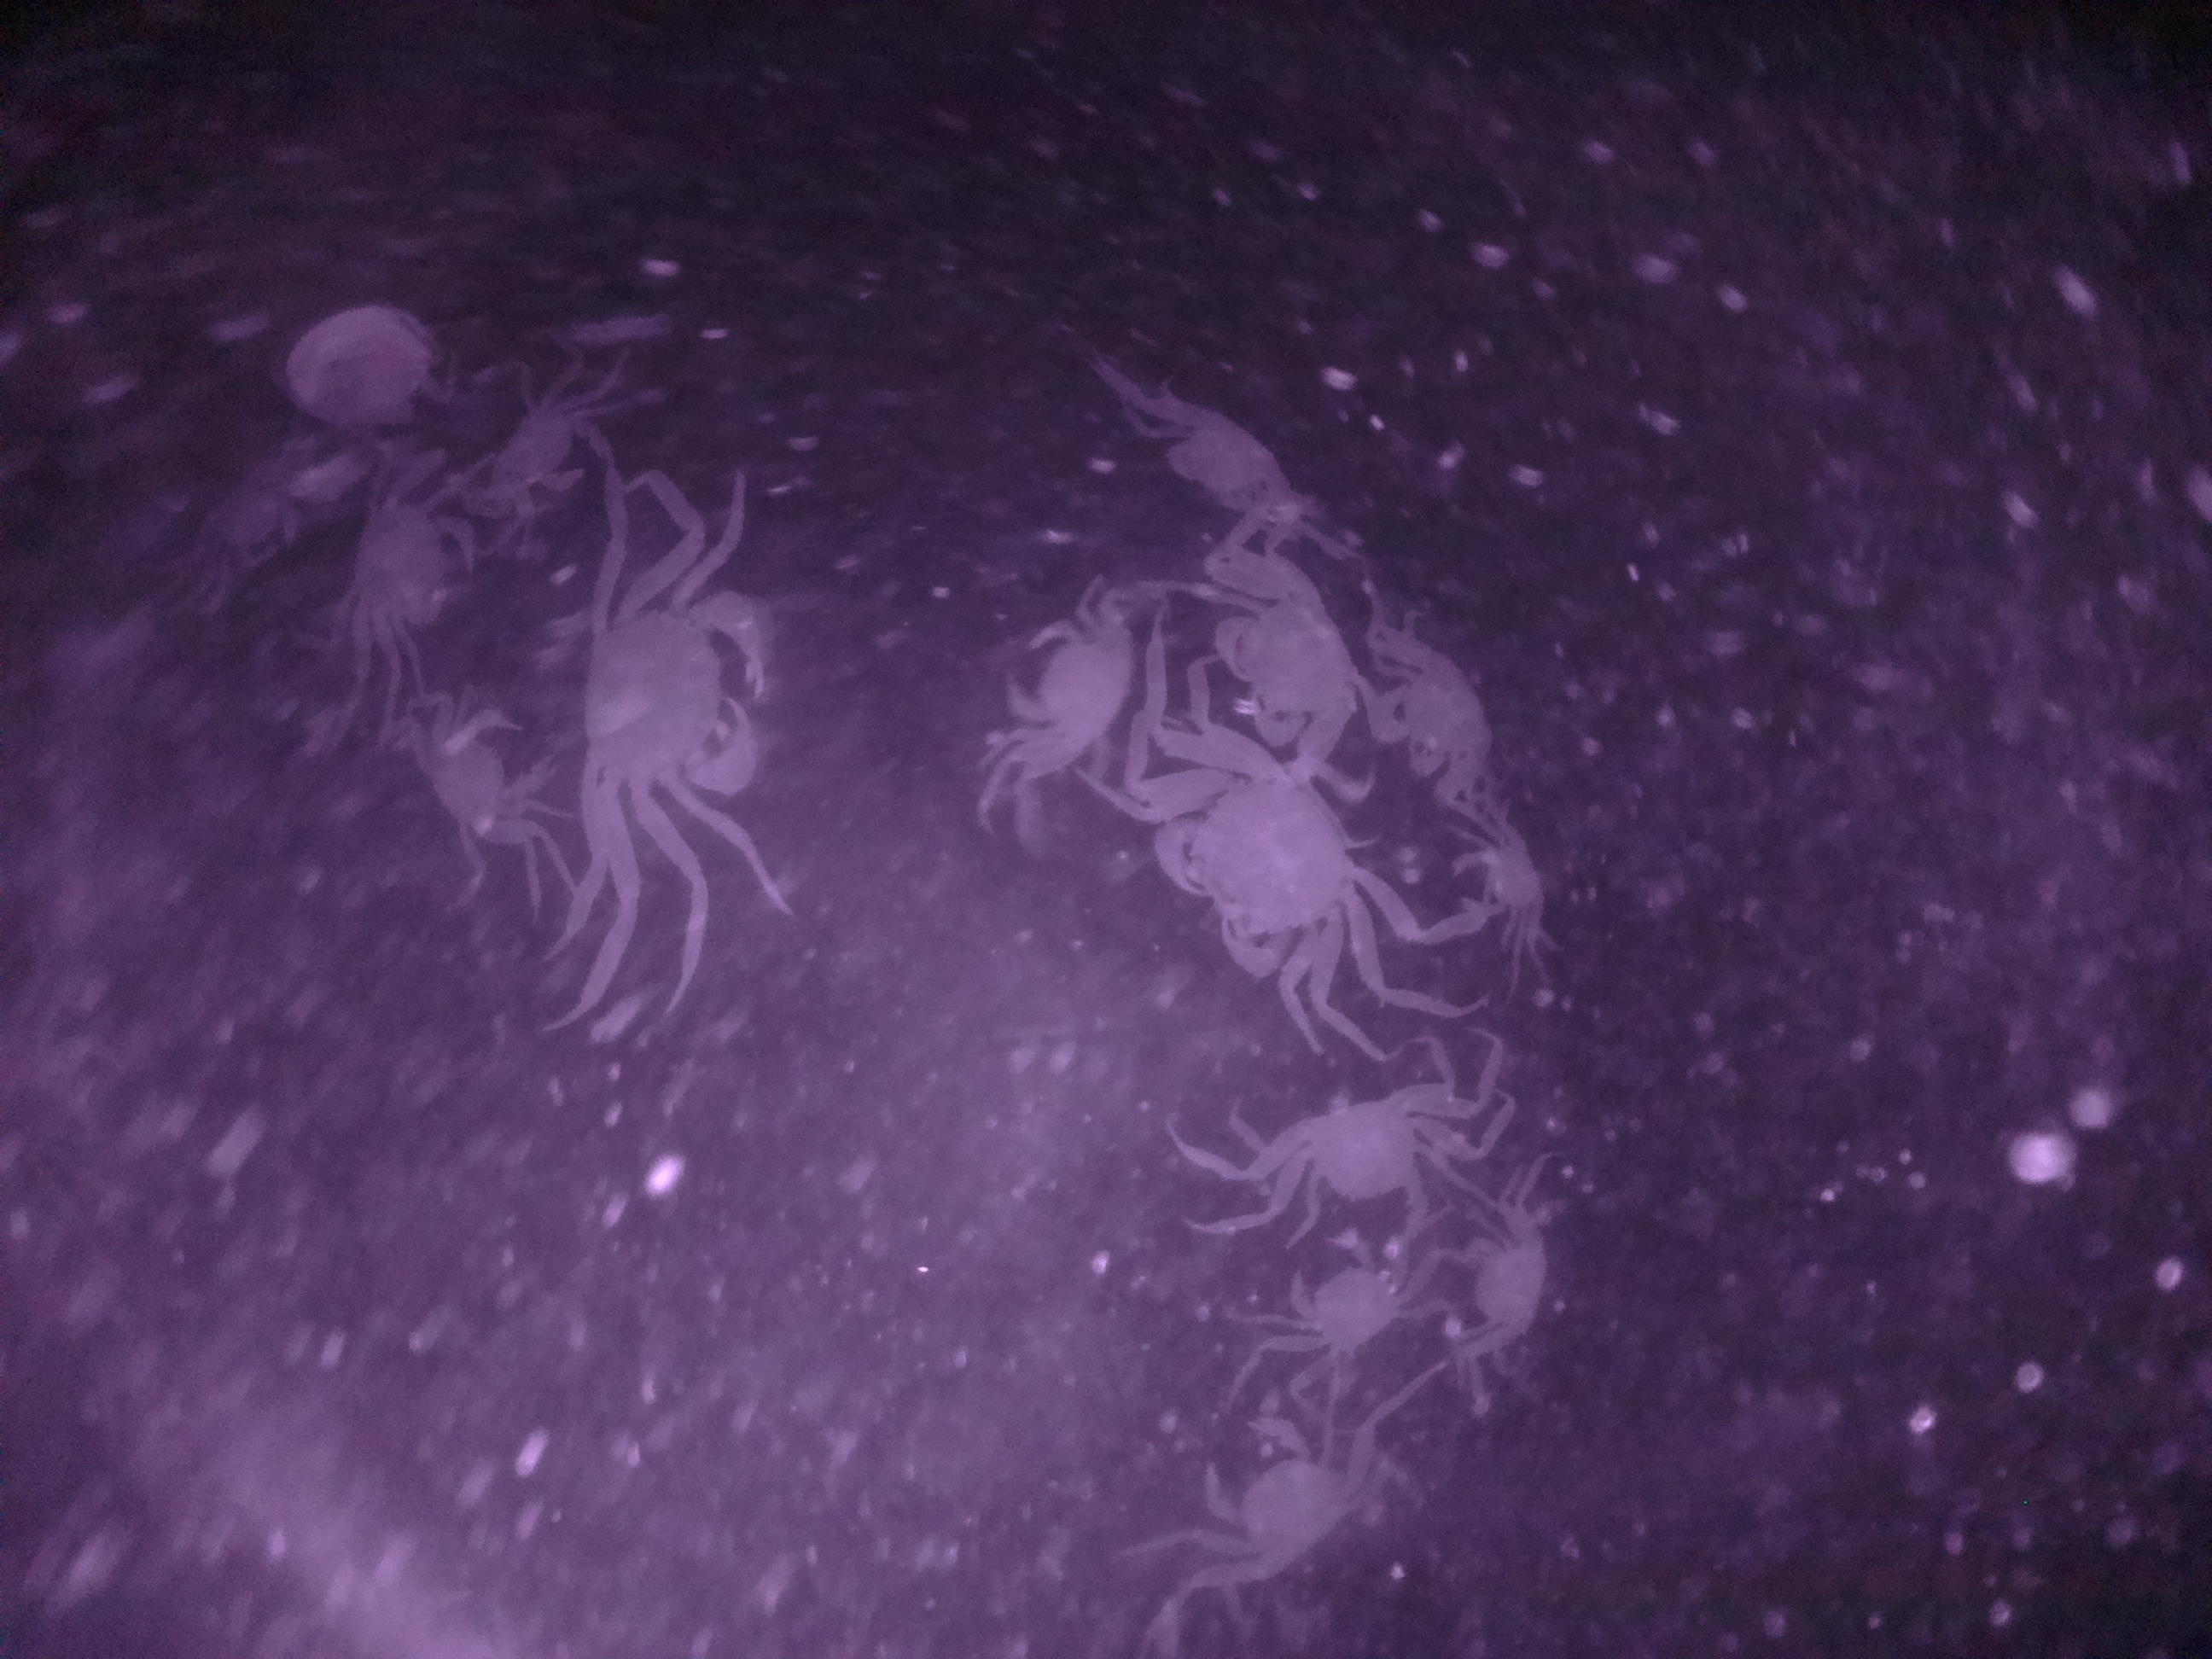Crab: (1143, 734, 1381, 999), (573, 551, 789, 831), (1181, 1406, 1374, 1582), (1367, 615, 1519, 805), (1254, 1080, 1447, 1229), (986, 586, 1143, 763), (397, 694, 564, 847), (334, 483, 479, 645), (1268, 1232, 1428, 1368), (475, 385, 611, 516), (1461, 1202, 1564, 1375), (1449, 805, 1573, 938)
